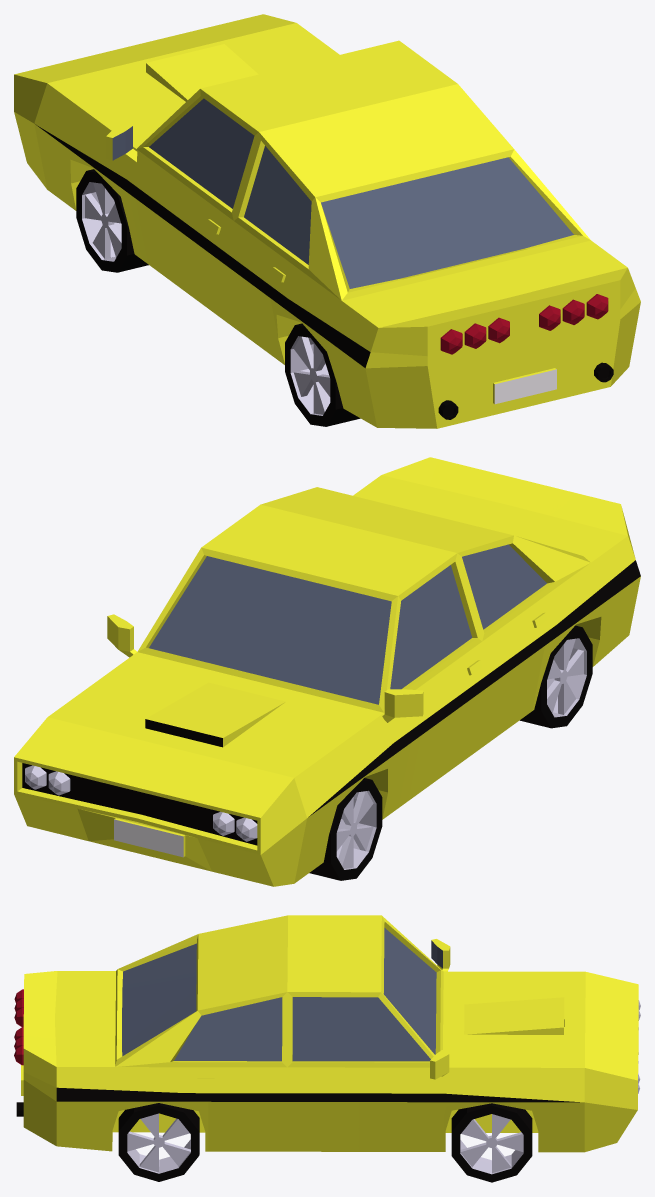
The model's file is yellow_car.glb.
3 renders of one model, top to bottom at view 1: azimuth 30°, elevation 25°; view 2: azimuth 150°, elevation 25°; view 3: azimuth 270°, elevation 25°, orthographic. The views are drawn at different scales.
Visible parts, largest first — view 1: Muscle; view 2: Muscle; view 3: Muscle.
Part boxes in pixels (bbox=[...]): Muscle: bbox=[14, 14, 640, 428]; Muscle: bbox=[14, 457, 640, 886]; Muscle: bbox=[14, 915, 640, 1182].
Size of the model in its own units: 2.81 by 1.91 by 6.06.
